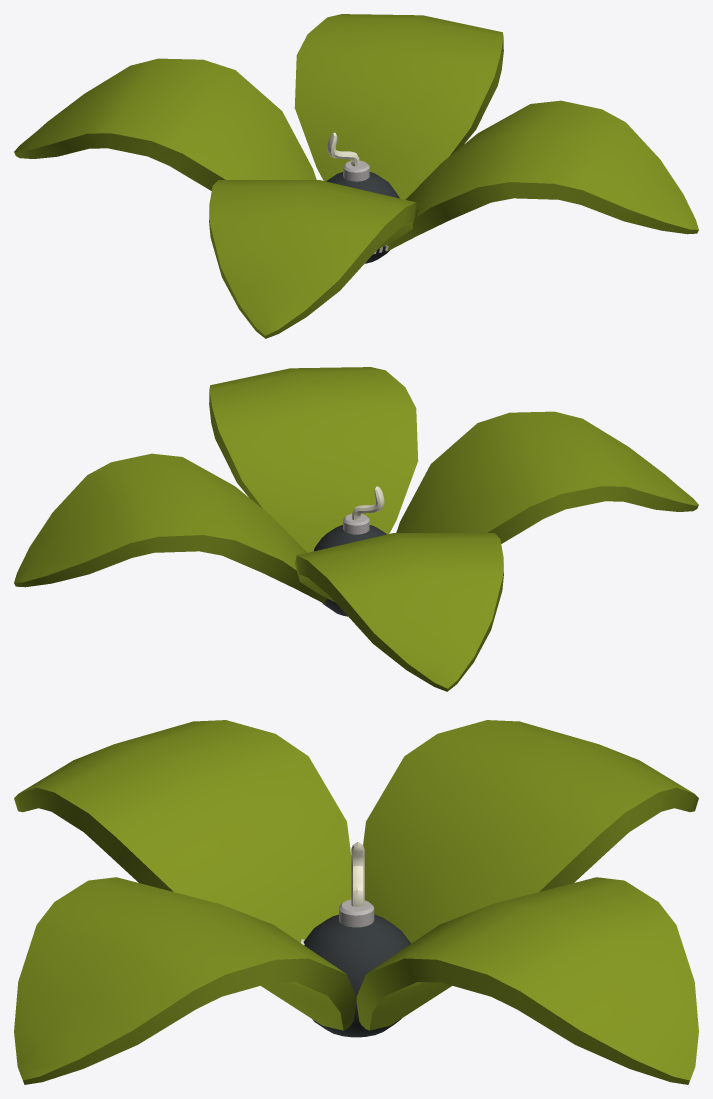
File: Tree-Bomb-no1.gltf
The picture shows the model from 3 angles, top to bottom: view 1: azimuth 30°, elevation 25°; view 2: azimuth 150°, elevation 25°; view 3: azimuth 270°, elevation 25°; orthographic projection. The views are drawn at different scales.
Visible parts, largest first — view 1: Tree-Bomb-no1; view 2: Tree-Bomb-no1; view 3: Tree-Bomb-no1.
Part boxes in pixels (box(x1,y1,x2,y2)): Tree-Bomb-no1: box(14, 14, 698, 338); Tree-Bomb-no1: box(14, 367, 698, 691); Tree-Bomb-no1: box(14, 720, 698, 1084).
Size of the model in its own units: 1.03 by 0.3266 by 1.03.
Materials: 1 (1 with a texture image).
